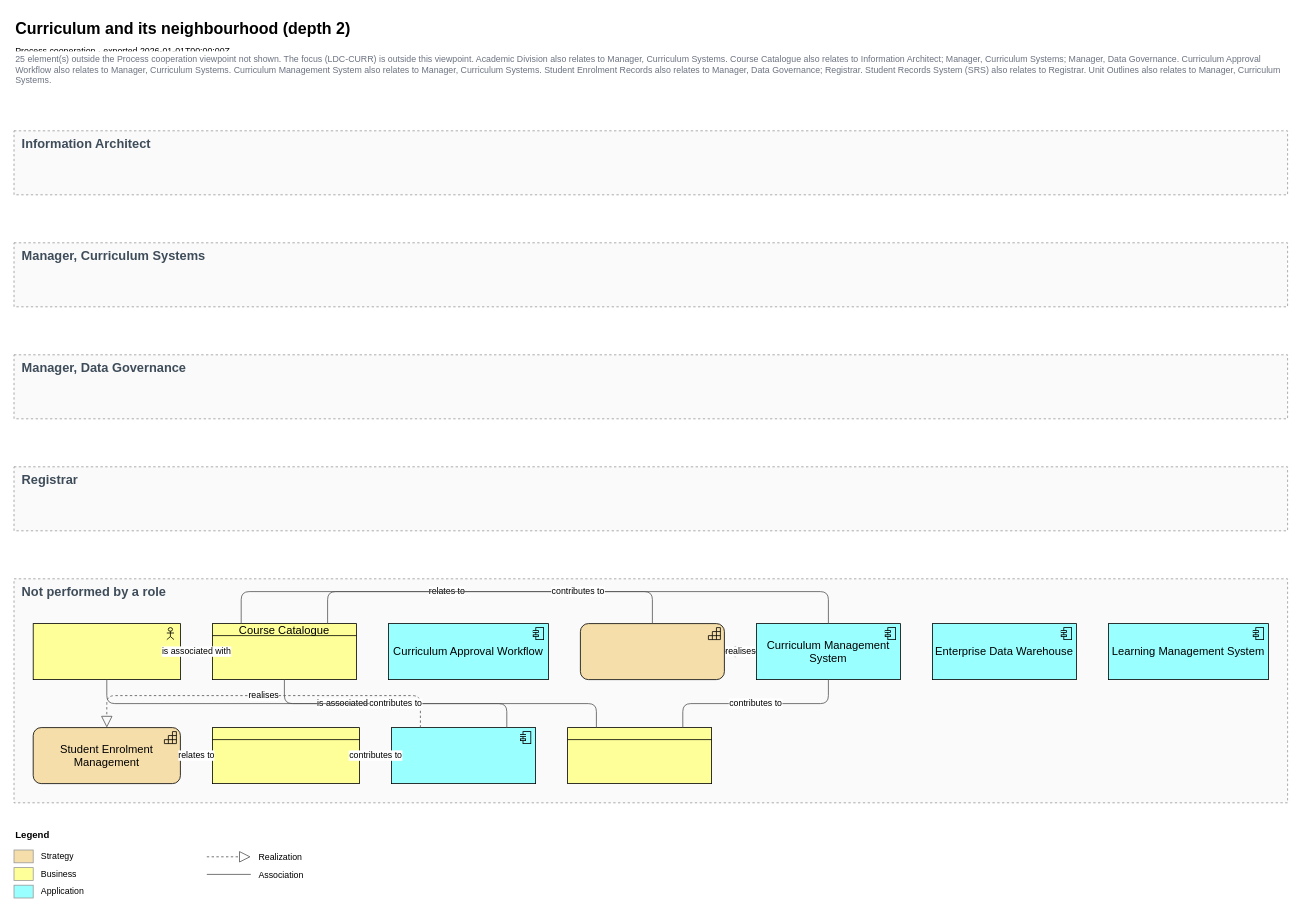
Image size: 1302x914. Some labels were removed from this diagram. Each missing label, with the box of its shape:
Academic Division: (32, 623, 180, 680)
Curriculum Development: (580, 623, 724, 680)
Student Enrolment Records: (212, 727, 360, 784)
Student Records System (SRS): (391, 727, 536, 784)
Unit Outlines: (567, 727, 712, 784)
